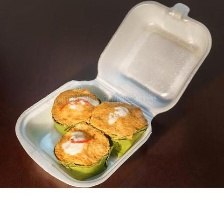foam_box: (11, 0, 216, 188)
